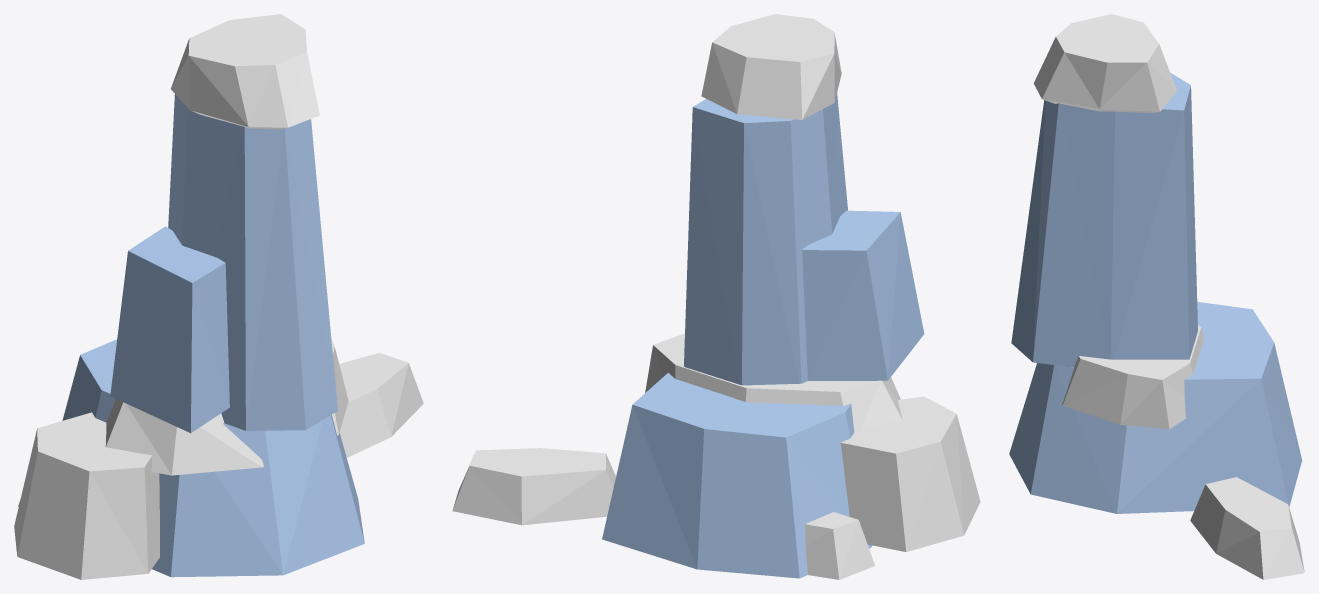
File: HieloPiedraGrande.fbx
3 views of the same model, side by side, from view 1: azimuth 30°, elevation 25°; view 2: azimuth 150°, elevation 25°; view 3: azimuth 270°, elevation 25° (orthographic). The views are drawn at different scales.
Parts seen in each view (by area): view 1: piedra grande; view 2: piedra grande; view 3: piedra grande.
Boxes of the visible parts, box(x1,y1,x2,y2) form: piedra grande: box(14, 14, 423, 579); piedra grande: box(452, 14, 980, 579); piedra grande: box(1009, 14, 1304, 579).
Bounding box in the file's own units: 5.6 × 5.5 × 3.43.
